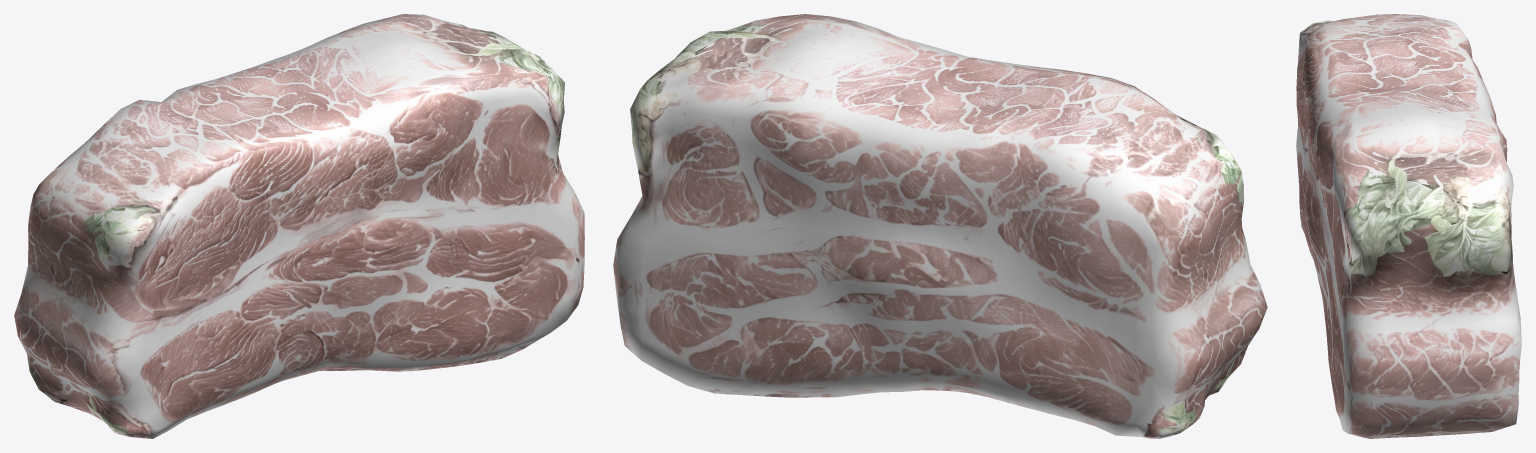
Rendered from animal_fat.glb.
The picture shows the model from 3 angles, left to right: view 1: azimuth 30°, elevation 25°; view 2: azimuth 150°, elevation 25°; view 3: azimuth 270°, elevation 25°; orthographic projection. The views are drawn at different scales.
Parts seen in each view (by area): view 1: animal_fat; view 2: animal_fat; view 3: animal_fat.
Boxes of the visible parts, x1=… form: animal_fat: x1=14, y1=14, x2=584, y2=438; animal_fat: x1=613, y1=14, x2=1267, y2=438; animal_fat: x1=1296, y1=14, x2=1521, y2=438.
Size of the model in its own units: 0.13 by 0.0717 by 0.0527.
1 material, 1 textured.
